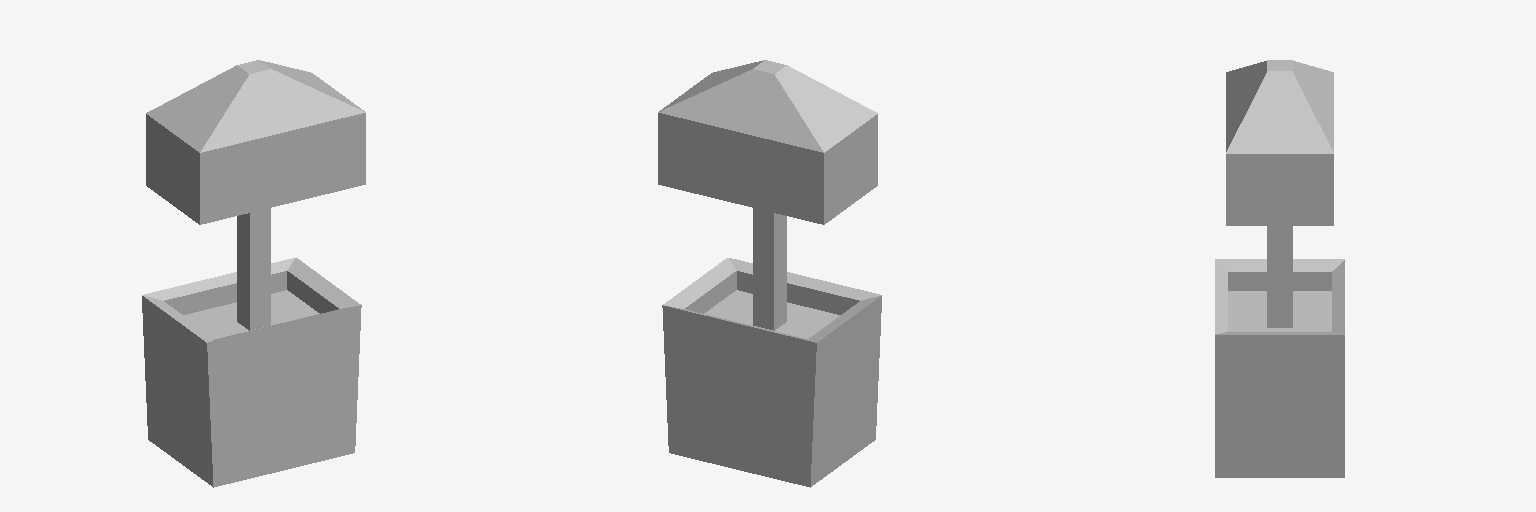
File: obstacle_3.obj
3 renders of one model, left to right at view 1: azimuth 30°, elevation 25°; view 2: azimuth 150°, elevation 25°; view 3: azimuth 270°, elevation 25°, orthographic.
Visible parts, largest first — view 1: Cube_Cube.001; view 2: Cube_Cube.001; view 3: Cube_Cube.001.
Boxes of the visible parts, x1,y1,x2,y2 form: Cube_Cube.001: [142, 60, 365, 487]; Cube_Cube.001: [658, 60, 881, 487]; Cube_Cube.001: [1215, 60, 1344, 477].
Bounding box in the file's own units: 1.18 × 2.56 × 0.8.